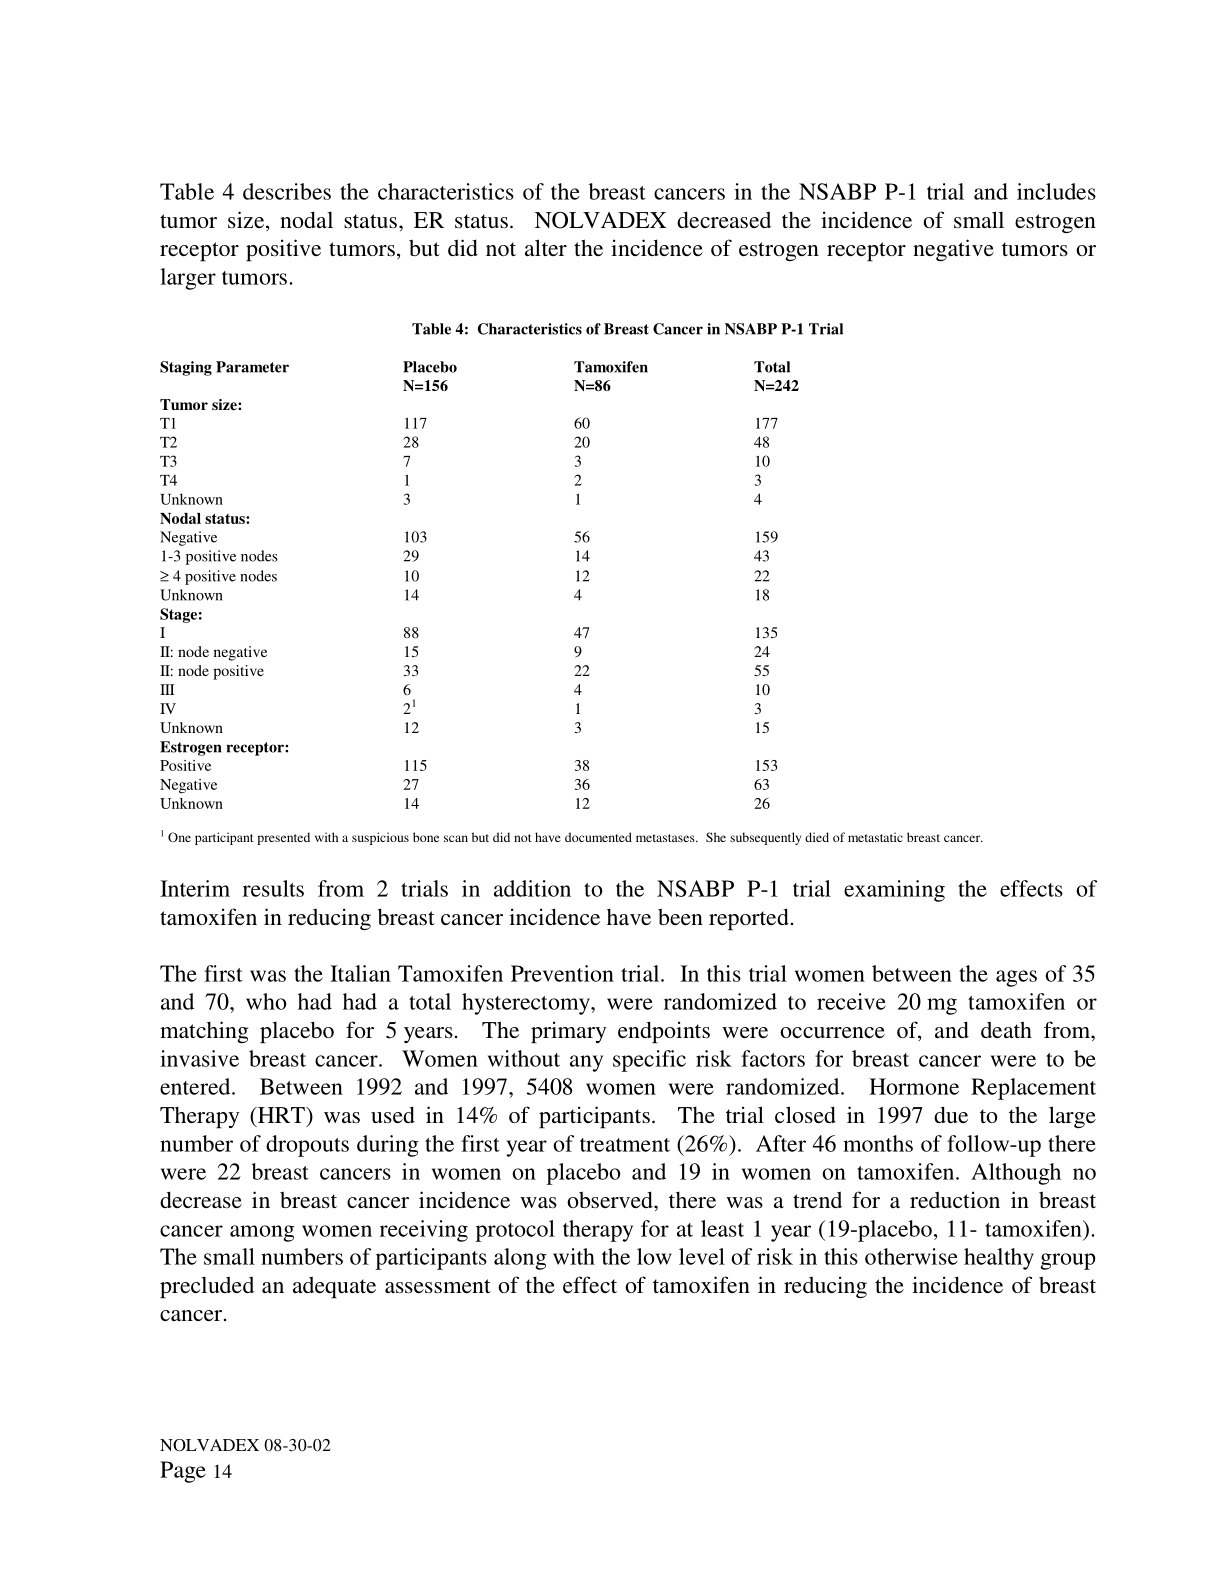nolines: (154, 354, 802, 814)
